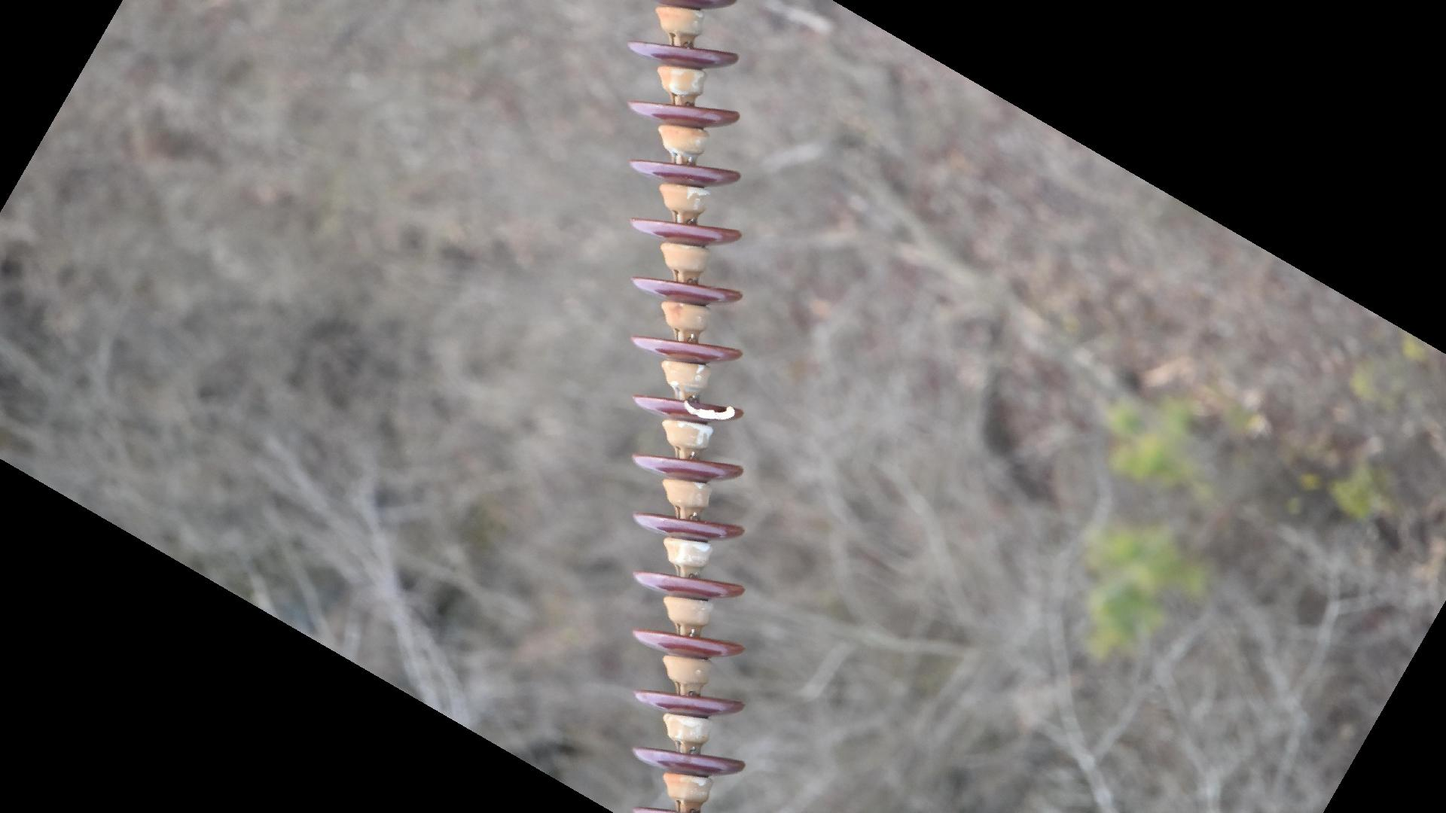insulator: (612, 1, 755, 787)
insulator_breakage: (673, 392, 743, 431)
